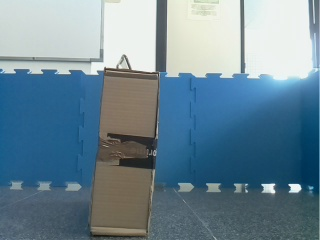caja: (82, 67, 162, 235)
